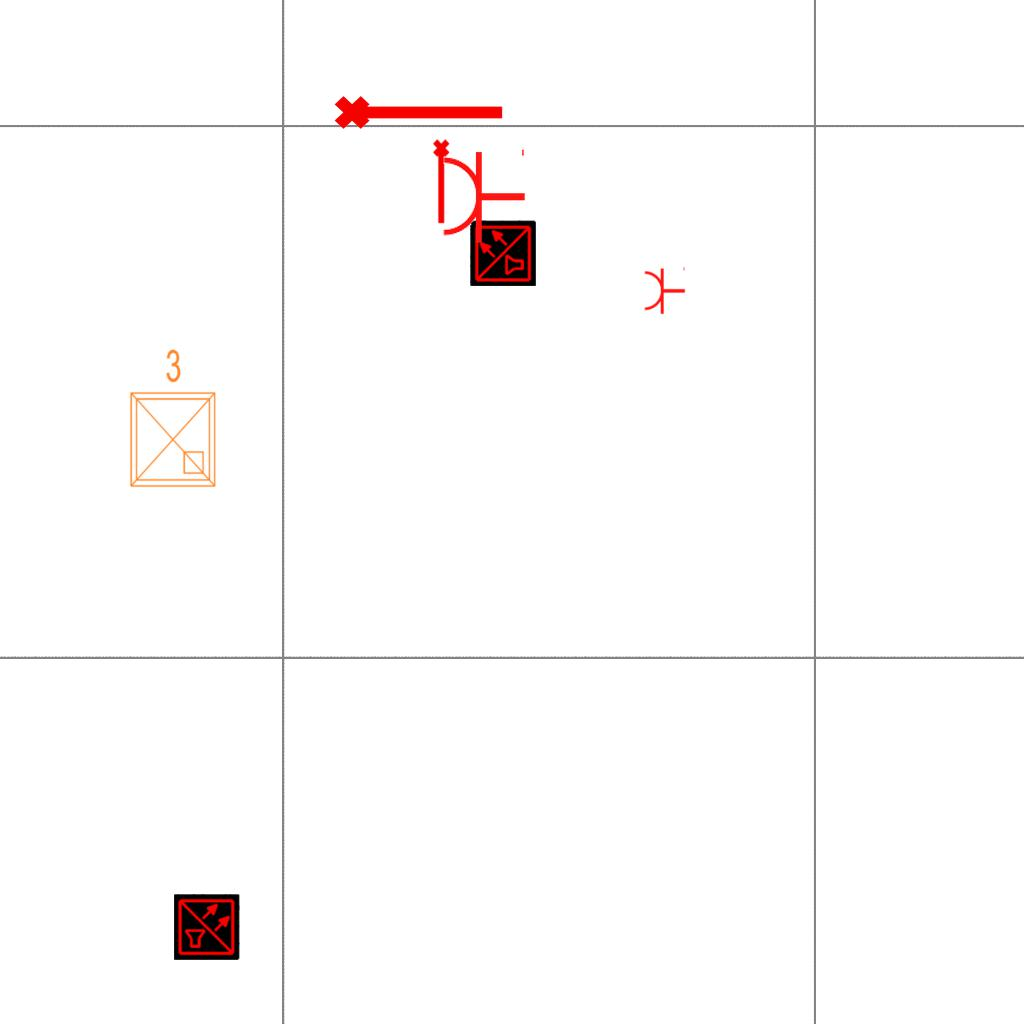ASR_Ansaugoeffnung: (332, 87, 508, 133), (431, 138, 454, 226)
Einbaudownlights_LED_Konferenzraeume: (119, 344, 223, 494)
OKW_Multisensormelder_(Kombination_optischer_Rauch-Kahlenmonoxid_Waerme-Melder): (470, 220, 536, 286), (174, 894, 240, 960)
Schukosteckdose_einfach: (440, 145, 527, 245), (643, 265, 686, 315)
